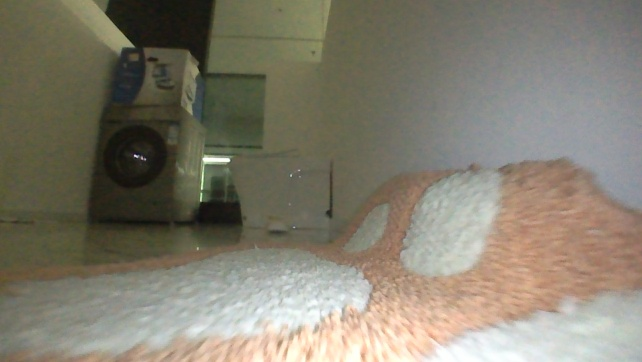shoe: (261, 206, 292, 236)
toilet: (222, 147, 335, 232)
washing_machine: (81, 96, 208, 230)
